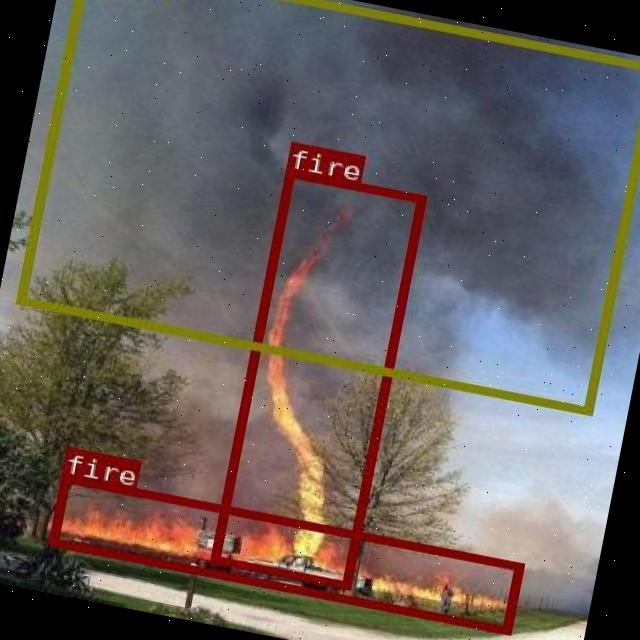fire: (209, 168, 425, 588), (46, 472, 522, 634)
smoke: (16, 0, 640, 413)
